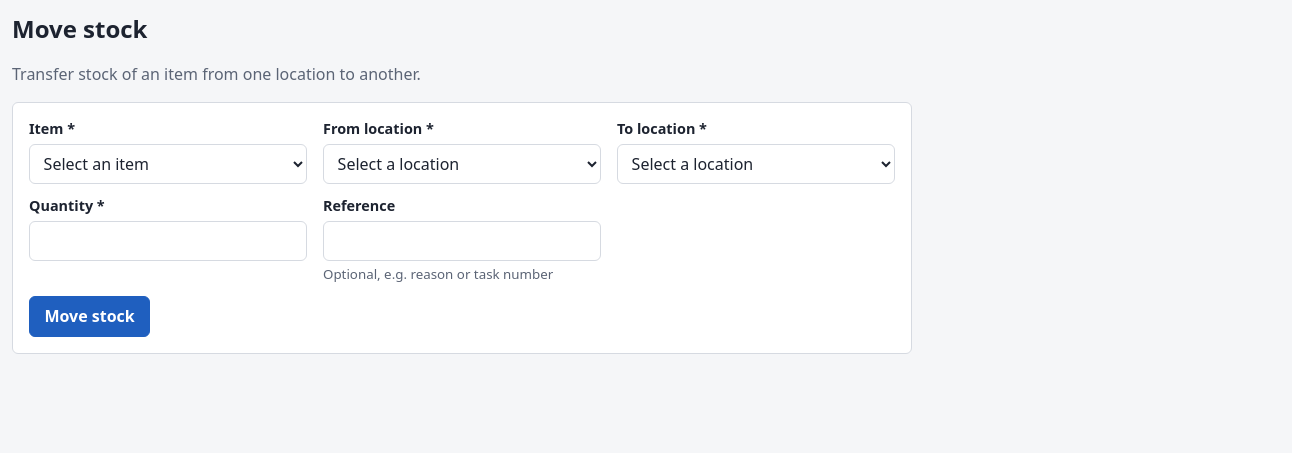
it: MoveStockPage › submits the transfer, shows success and resets quantity and reference
The image size is (1292, 453).
Select "BOLT-10 — Bolt 10mm" in the dropdown labelled "Item *" at (168, 164), box [29,144,307,184]
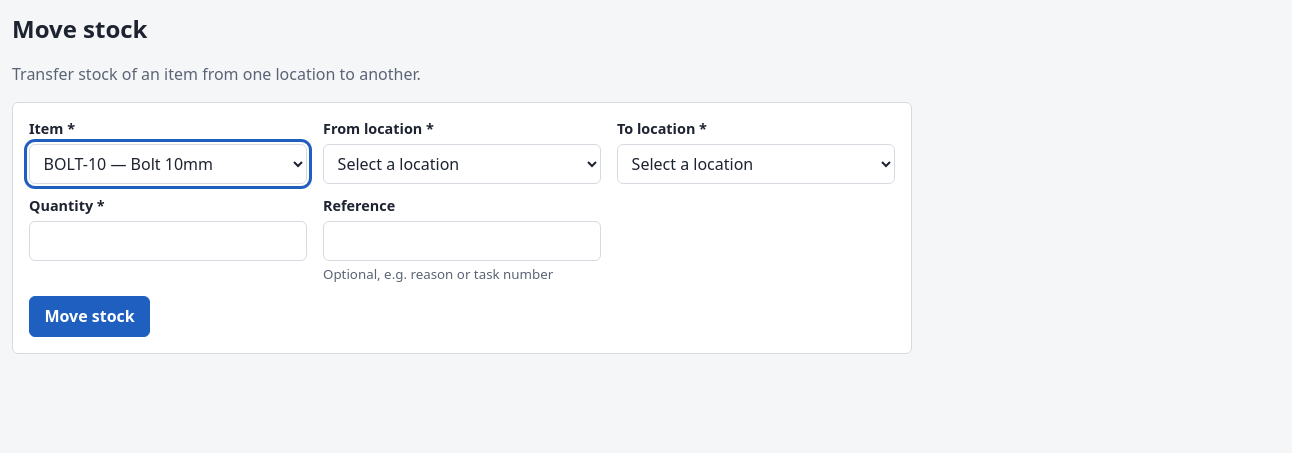
Select "A-01 — Aisle A bay 1" in the dropdown labelled "From location *" at (462, 164), box [323,144,601,184]
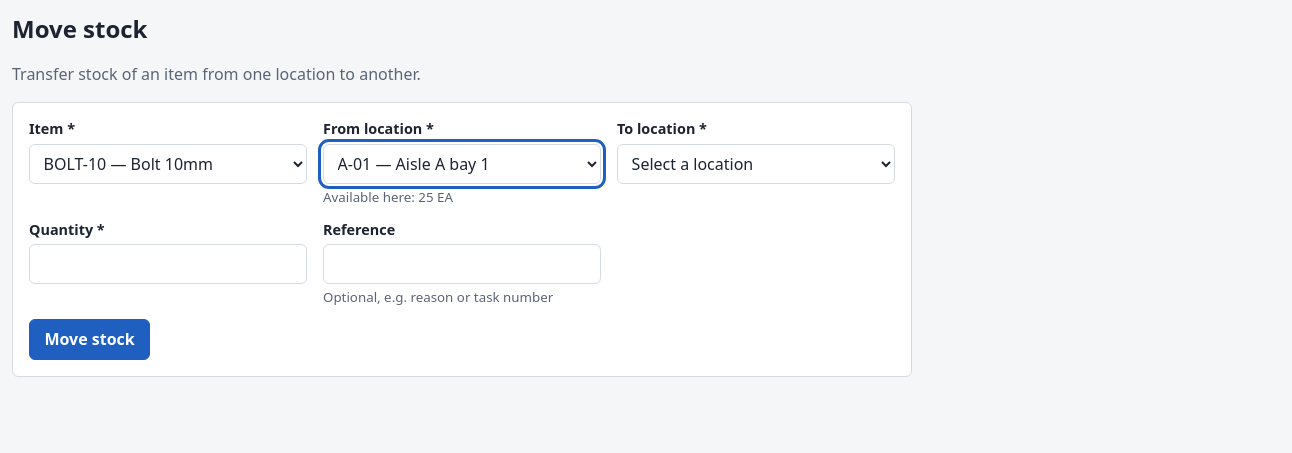
Select "B-02 — Aisle B bay 2" in the dropdown labelled "To location *" at (756, 164), box [617,144,895,184]
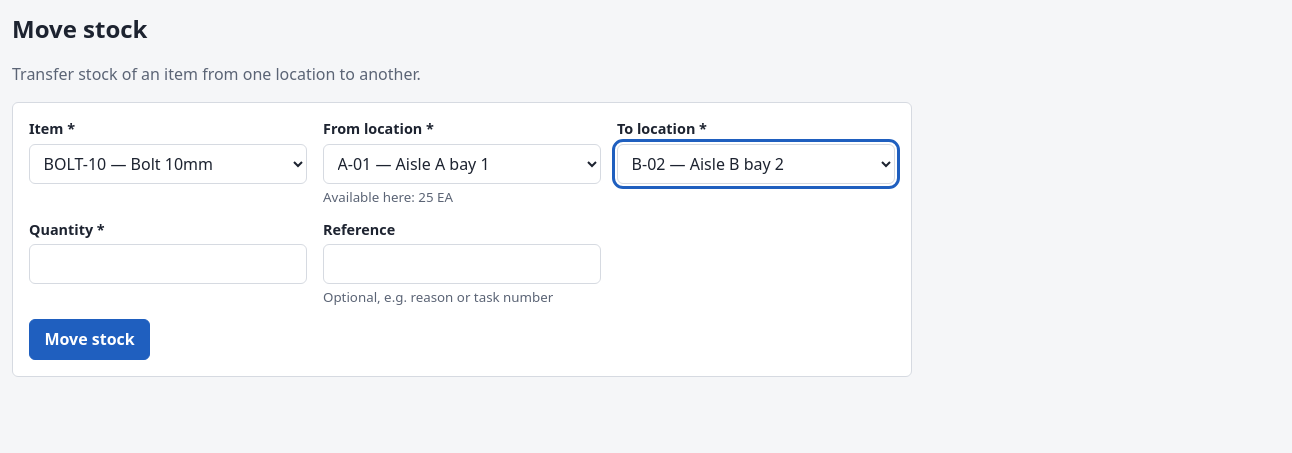
Type "4" into the field labelled "Quantity *" at (168, 264), box [29,244,307,284]
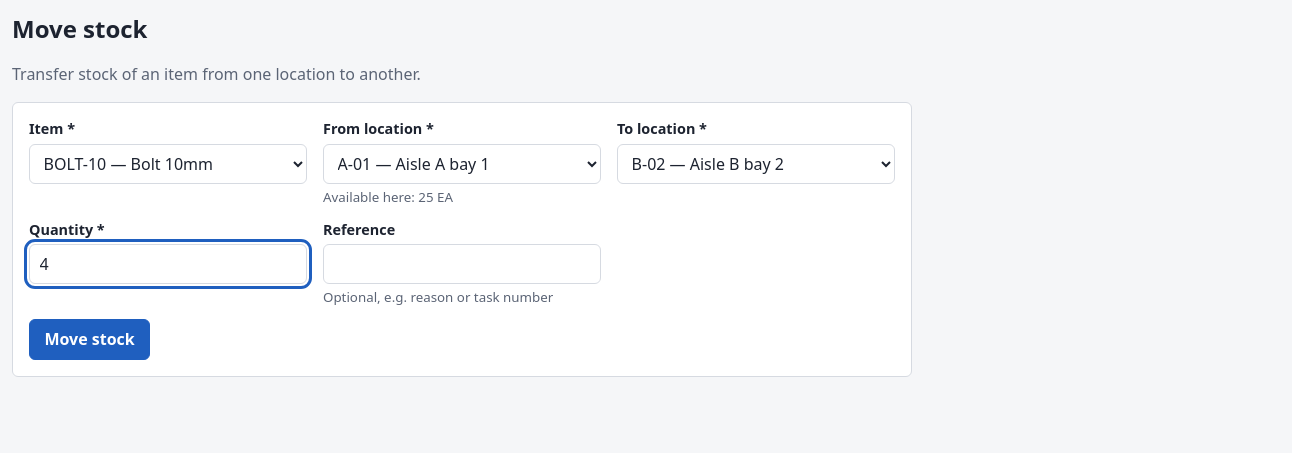
Type "Re-slot" into the field labelled "Reference" at (462, 264), box [323,244,601,284]
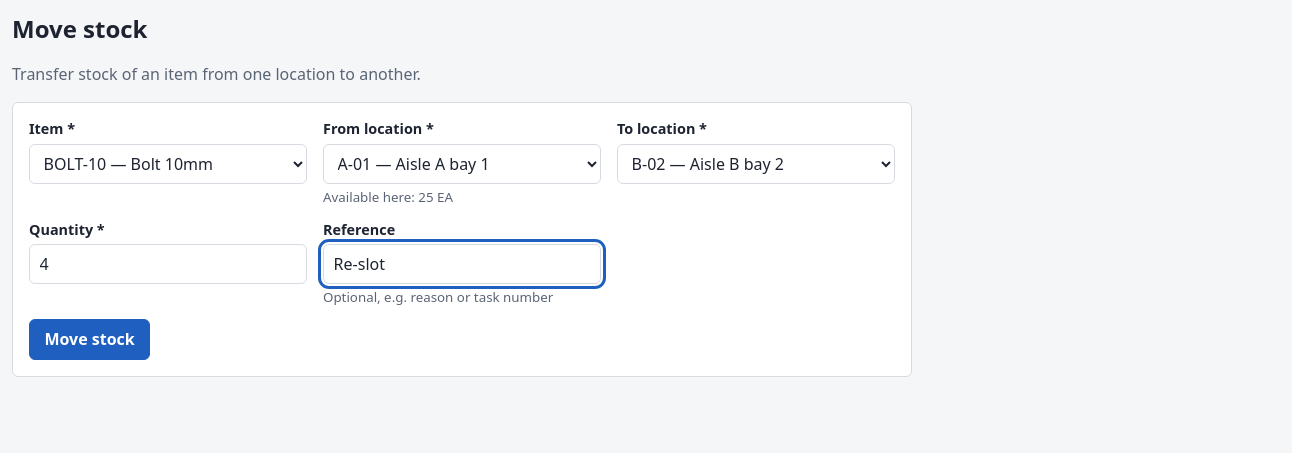
Click the button "Move stock" at (90, 340), box [29,319,150,360]
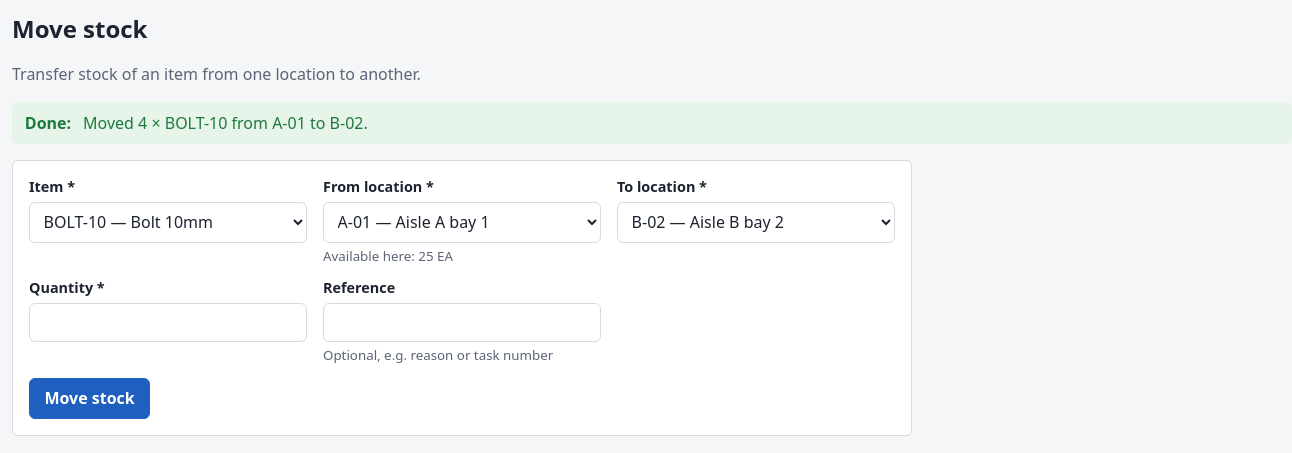
Expected: the field labelled "Reference" is empty, [323,303,601,342]
Result: the text "Moved 4 × BOLT-10 from A-01 to B-02." is shown at [83,112,368,134]
Result: the field labelled "Quantity *" is empty at [29,303,307,342]
